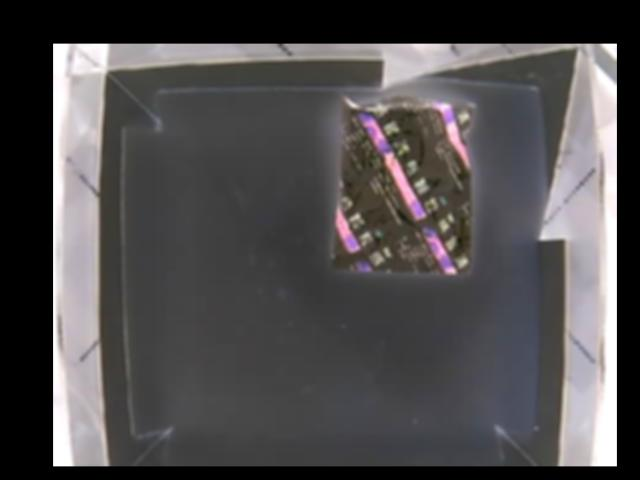Medicine: (334, 93, 475, 276)
